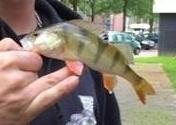Perch: (15, 19, 158, 111)
